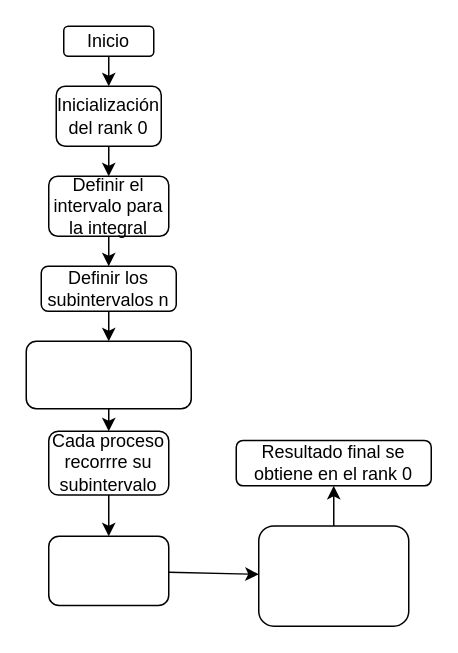
Image size: 458x653. Some labels were removed from this diagram. The shapes that lost their labels are listed below. From the top down, each one's centre as x and y in pixels, then its label:
At (108,374): "Distribuir el número de subintervalos a cada proceso".
At (108,570): "Cada proceso almacena su suma parcial".
At (333,575): "Se combinan las sumas parciales calculadas por proceso".
